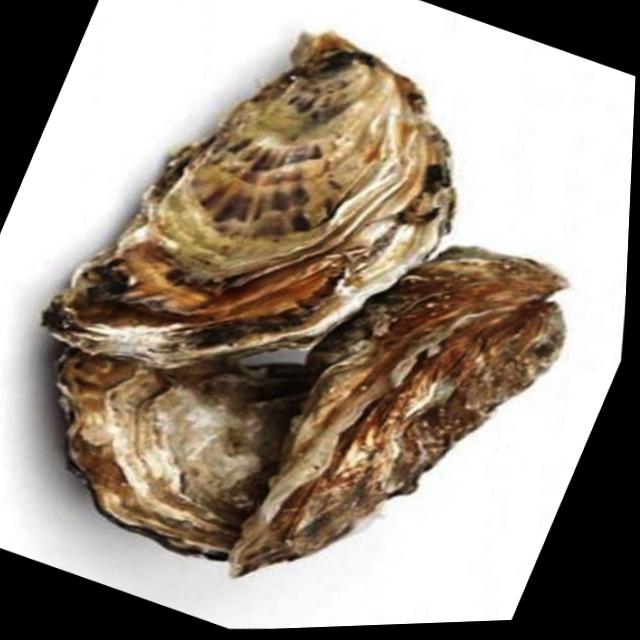Oyster-Closed: (43, 34, 455, 370), (229, 247, 564, 576)
Oyster-Indeterminate: (57, 350, 310, 557)
